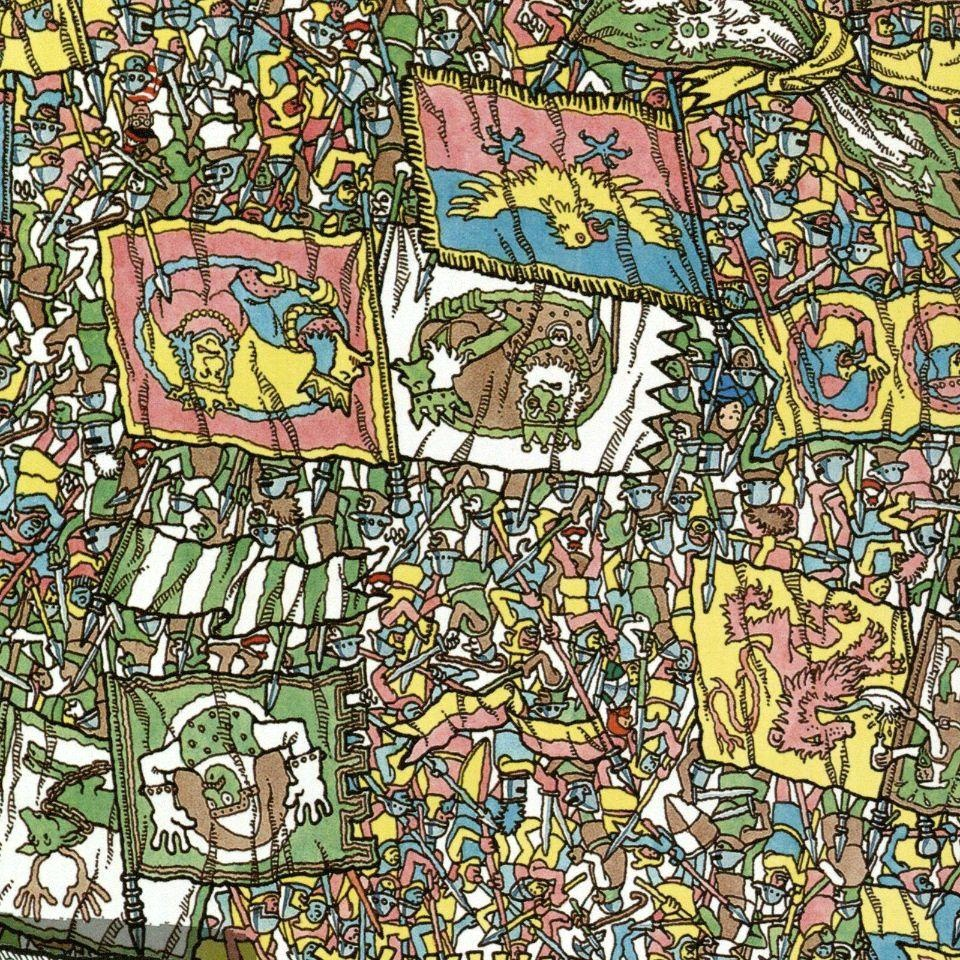waldo: (122, 99, 156, 153)
